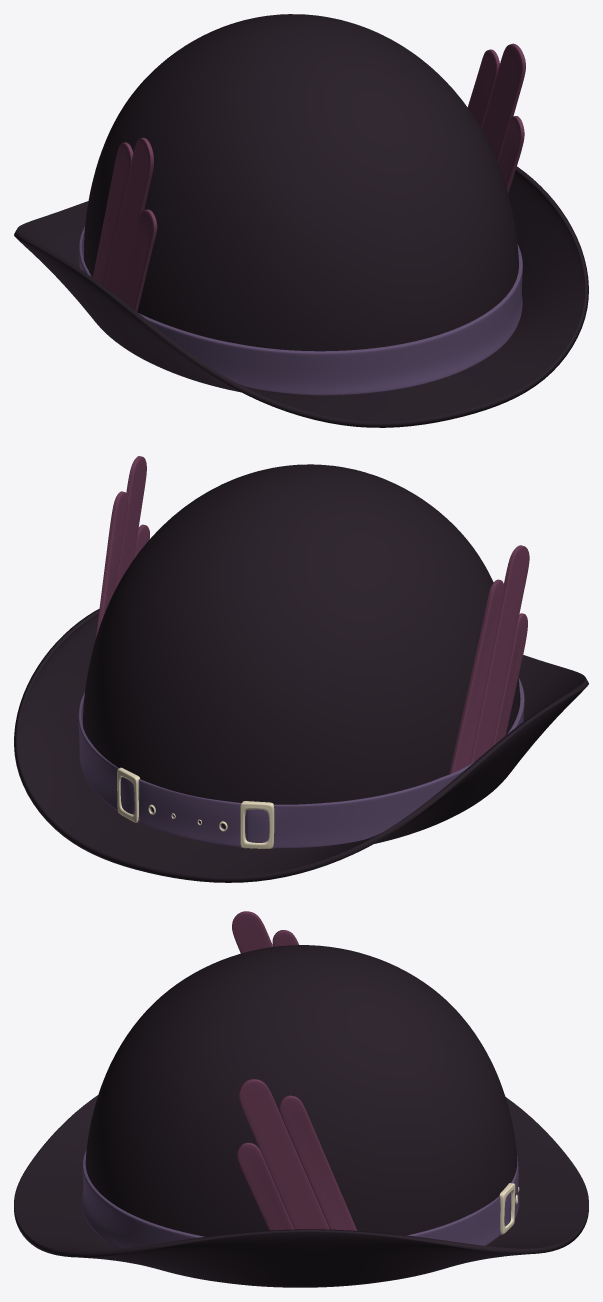
File: hat9.glb
The picture shows the model from 3 angles, top to bottom: view 1: azimuth 30°, elevation 25°; view 2: azimuth 150°, elevation 25°; view 3: azimuth 270°, elevation 25°; orthographic projection. The views are drawn at different scales.
Visible parts, largest first — view 1: Cube_Cube008, Cube001_Cube002; view 2: Cube_Cube008, Cube001_Cube002, Cube002_Cube003; view 3: Cube_Cube008, Cube001_Cube002, Cube002_Cube003.
Boxes of the visible parts, bbox=[...] form: Cube_Cube008: bbox=[14, 14, 588, 427]; Cube001_Cube002: bbox=[79, 43, 525, 395]; Cube_Cube008: bbox=[14, 464, 588, 882]; Cube001_Cube002: bbox=[78, 456, 529, 848]; Cube002_Cube003: bbox=[117, 767, 274, 848]; Cube_Cube008: bbox=[14, 945, 588, 1287]; Cube001_Cube002: bbox=[81, 911, 519, 1248]; Cube002_Cube003: bbox=[499, 1183, 515, 1234].
Size of the model in its own units: 7.97 by 4.69 by 9.87.
